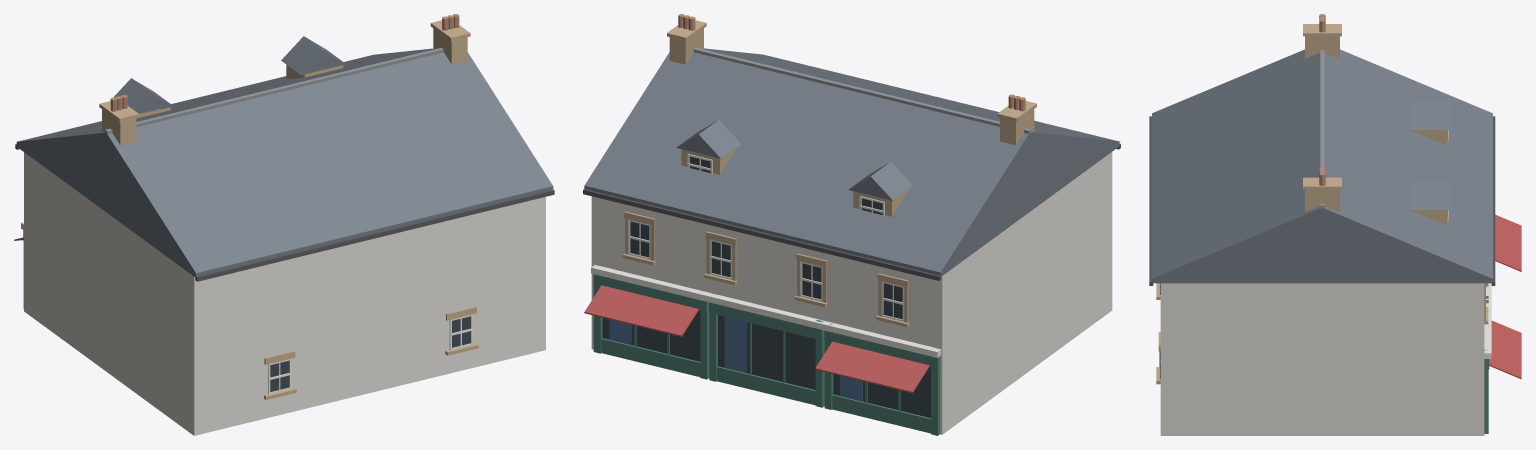
File: shop2_b.glb
The picture shows the model from 3 angles, left to right: view 1: azimuth 30°, elevation 25°; view 2: azimuth 150°, elevation 25°; view 3: azimuth 270°, elevation 25°; orthographic projection. The views are drawn at different scales.
Visible parts, largest first — view 1: shop2_b; view 2: shop2_b; view 3: shop2_b.
Part boxes in pixels (x1,y1,x2,y2): shop2_b: [14, 14, 554, 435]; shop2_b: [583, 14, 1120, 435]; shop2_b: [1149, 14, 1521, 435].
Bounding box in the file's own units: 15.74 × 11.52 × 14.95.
